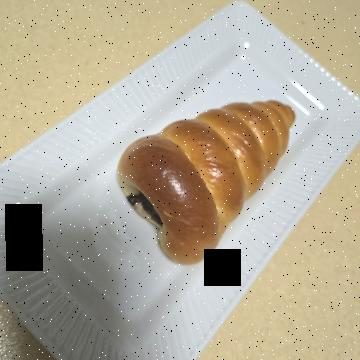cream horn: (71, 48, 288, 255)
